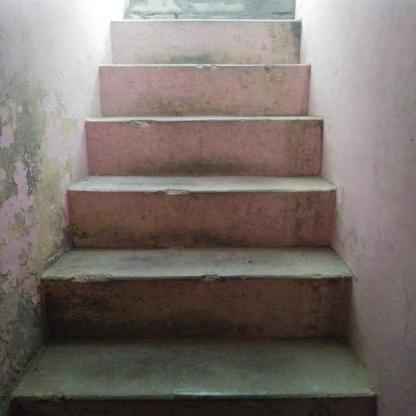stair: (13, 11, 382, 415)
